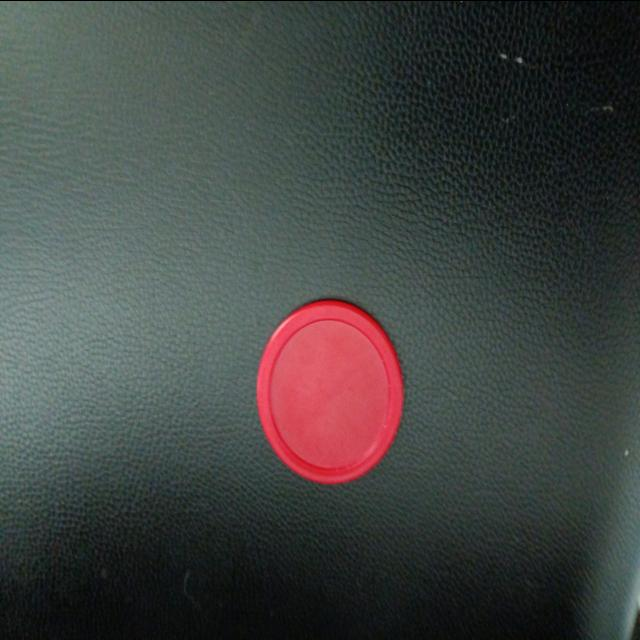chip: (254, 296, 406, 488)
